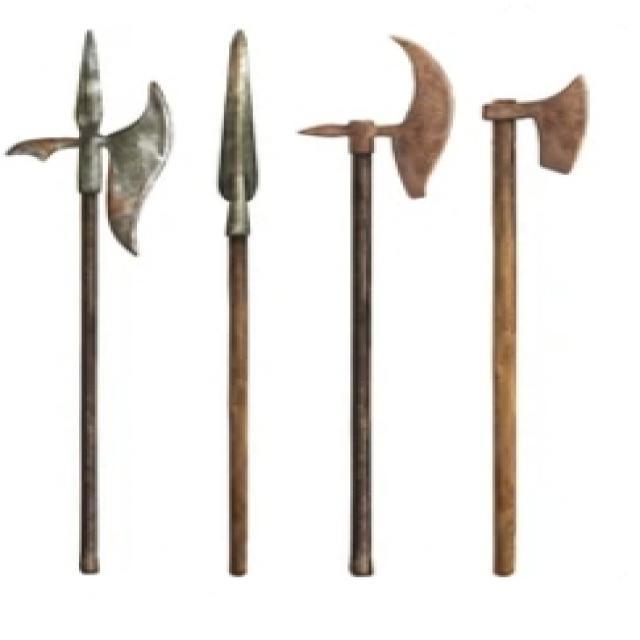spear: (293, 29, 468, 594), (12, 11, 178, 588), (471, 43, 602, 593), (210, 26, 276, 596)
